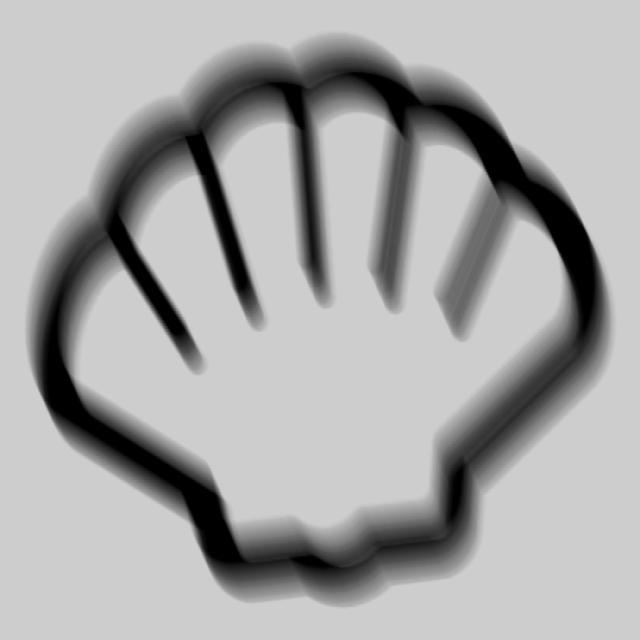shell: (13, 22, 627, 626)
